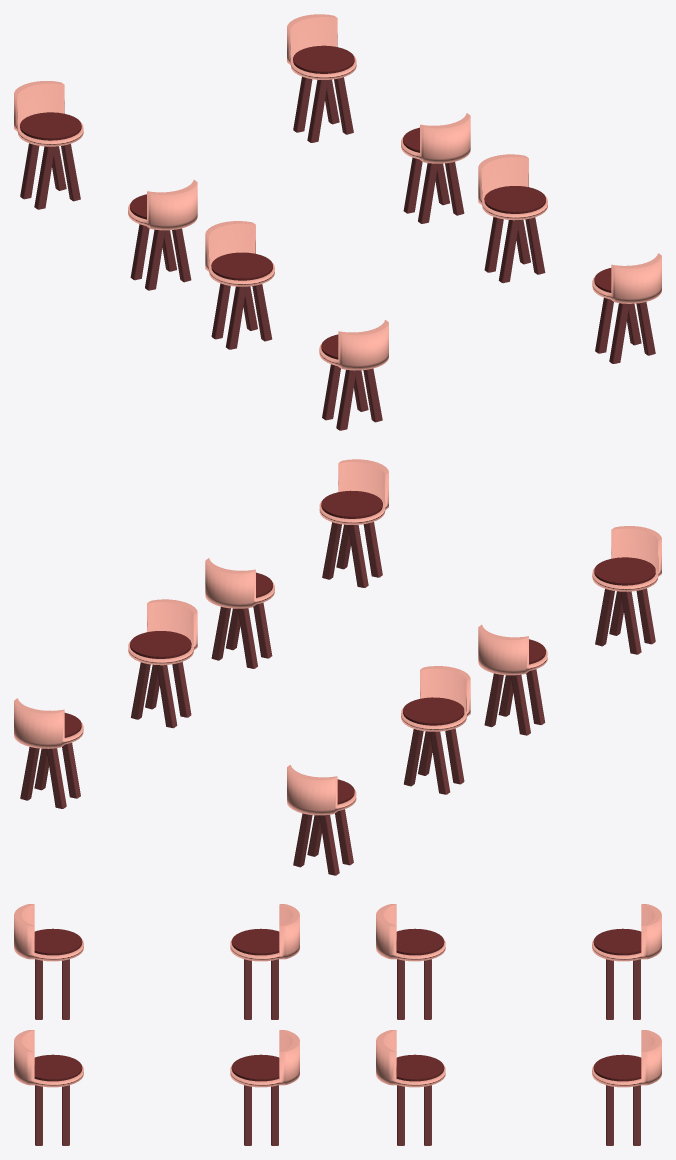
The model's file is sandalye.fbx.
3 renders of one model, top to bottom at view 1: azimuth 30°, elevation 25°; view 2: azimuth 150°, elevation 25°; view 3: azimuth 270°, elevation 25°, orthographic. The views are drawn at different scales.
Visible parts, largest first — view 1: sandalye_6, sandalye_4, sandalye_8, sandalye_1, sandalye_3, sandalye_7, sandalye_2, sandalye_5; view 2: sandalye_5, sandalye_2, sandalye_7, sandalye_3, sandalye_1, sandalye_6, sandalye_8, sandalye_4; view 3: sandalye_8, sandalye_4, sandalye_6, sandalye_1, sandalye_2, sandalye_3, sandalye_5, sandalye_7.
Boxes of the visible parts, left/top/right/bottom form: sandalye_6: left=478, top=154, right=547, bottom=283; sandalye_4: left=14, top=81, right=83, bottom=209; sandalye_8: left=287, top=14, right=356, bottom=142; sandalye_1: left=205, top=221, right=274, bottom=349; sandalye_3: left=128, top=180, right=197, bottom=290; sandalye_7: left=401, top=113, right=470, bottom=223; sandalye_2: left=319, top=320, right=388, bottom=430; sandalye_5: left=592, top=253, right=661, bottom=363; sandalye_5: left=319, top=459, right=388, bottom=587; sandalye_2: left=592, top=526, right=661, bottom=654; sandalye_7: left=128, top=599, right=197, bottom=728; sandalye_3: left=401, top=666, right=470, bottom=794; sandalye_1: left=478, top=624, right=547, bottom=735; sandalye_6: left=205, top=558, right=274, bottom=668; sandalye_8: left=14, top=698, right=83, bottom=808; sandalye_4: left=287, top=765, right=356, bottom=875; sandalye_8: left=592, top=1030, right=661, bottom=1145; sandalye_4: left=592, top=904, right=661, bottom=1019; sandalye_6: left=230, top=1030, right=299, bottom=1145; sandalye_1: left=230, top=904, right=299, bottom=1019; sandalye_2: left=14, top=904, right=83, bottom=1019; sandalye_3: left=376, top=904, right=445, bottom=1019; sandalye_5: left=14, top=1030, right=83, bottom=1145; sandalye_7: left=376, top=1030, right=445, bottom=1145.
Size of the model in its own units: 278 by 80.87 by 499.
